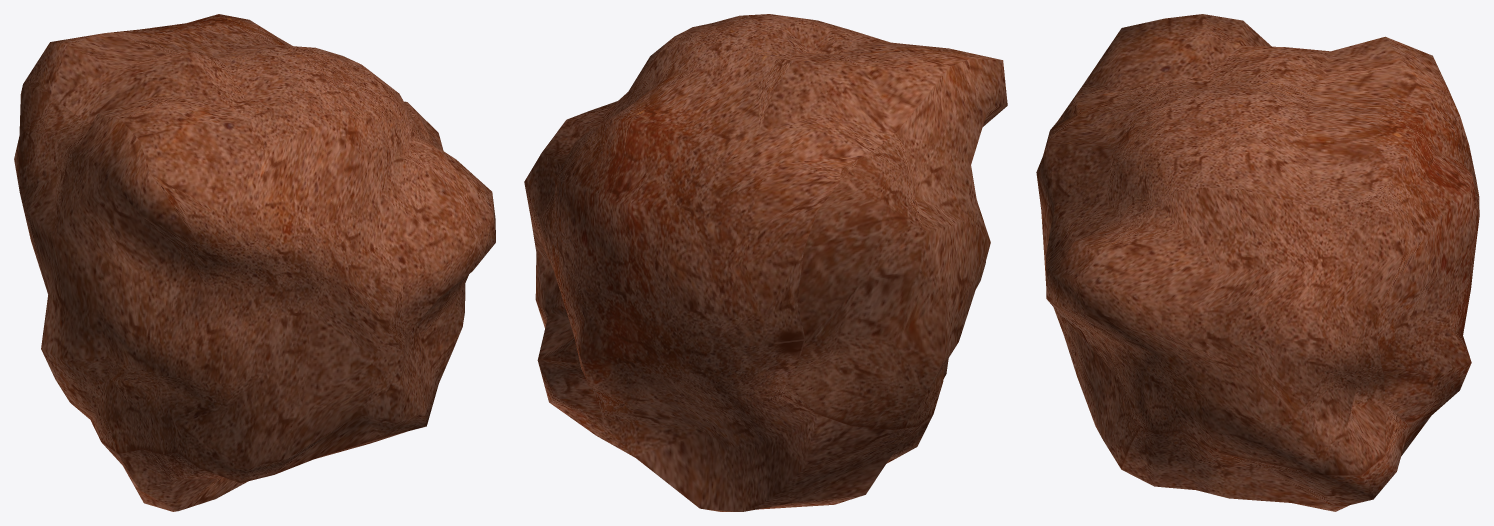
Rendered from Rock_05.fbx.
3 renders of one model, left to right at view 1: azimuth 30°, elevation 25°; view 2: azimuth 150°, elevation 25°; view 3: azimuth 270°, elevation 25°, orthographic. The views are drawn at different scales.
Parts seen in each view (by area): view 1: Rock_05; view 2: Rock_05; view 3: Rock_05.
Part boxes in pixels (x1,y1,x2,y2): Rock_05: [14, 14, 495, 511]; Rock_05: [524, 14, 1007, 511]; Rock_05: [1036, 14, 1479, 511].
Bounding box in the file's own units: 10.52 × 10.64 × 9.88.
